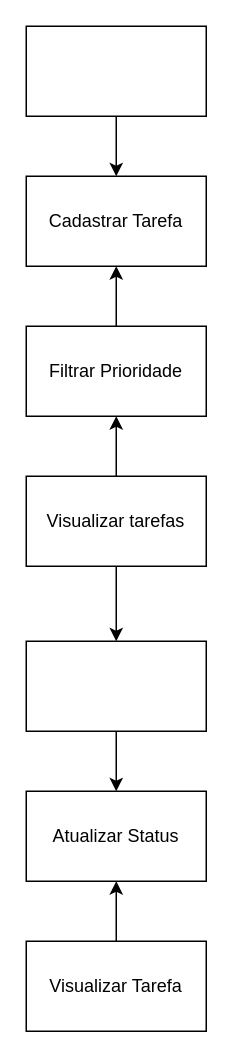
This 233x1058 diagram has some shape labels left out. The centre of each missing label's shape, as x and y in pixels:
"Entregador" belongs at (x=115, y=685).
"Gestor" belongs at (x=115, y=70).
